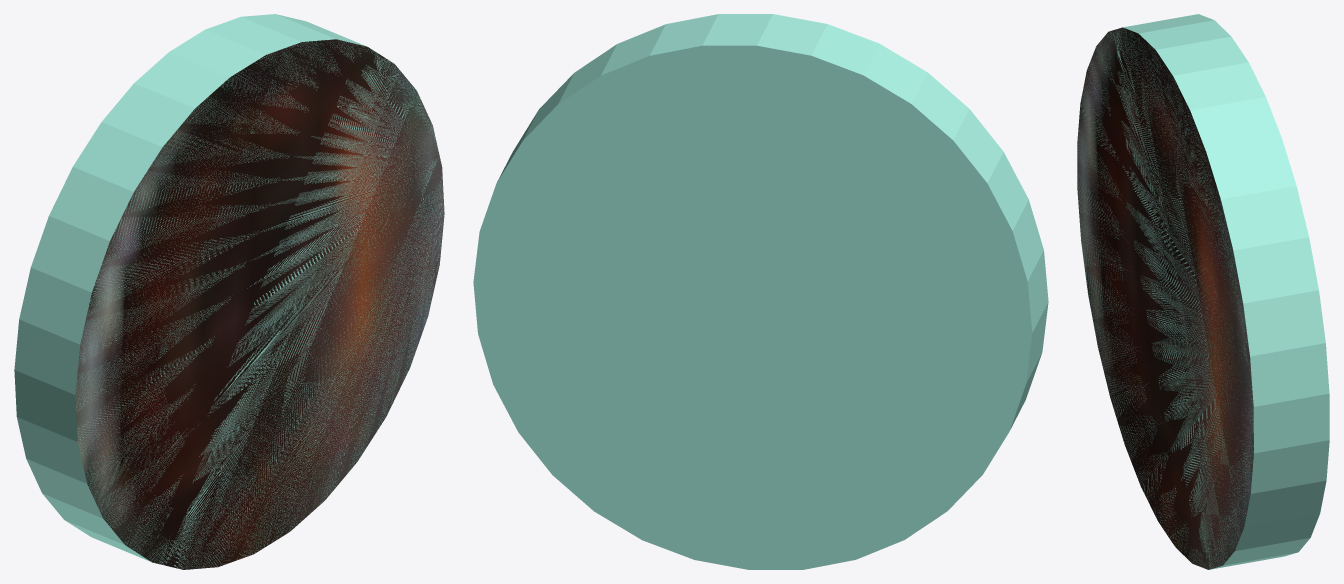
The model's file is SampleCar_01_Indicator_FL.fbx.
The picture shows the model from 3 angles, left to right: view 1: azimuth 30°, elevation 25°; view 2: azimuth 150°, elevation 25°; view 3: azimuth 270°, elevation 25°; orthographic projection. The views are drawn at different scales.
Visible parts, largest first — view 1: lamps_003_LOD0, UTM_lamps_003; view 2: UTM_lamps_003; view 3: lamps_003_LOD0, UTM_lamps_003.
Boxes of the visible parts, x1,y1,x2,y2 form: lamps_003_LOD0: [75, 39, 444, 569]; UTM_lamps_003: [14, 14, 443, 569]; UTM_lamps_003: [473, 14, 1048, 569]; lamps_003_LOD0: [1077, 27, 1253, 569]; UTM_lamps_003: [1077, 14, 1329, 569].
Size of the model in its own units: 6.03 by 6.09 by 2.78.
